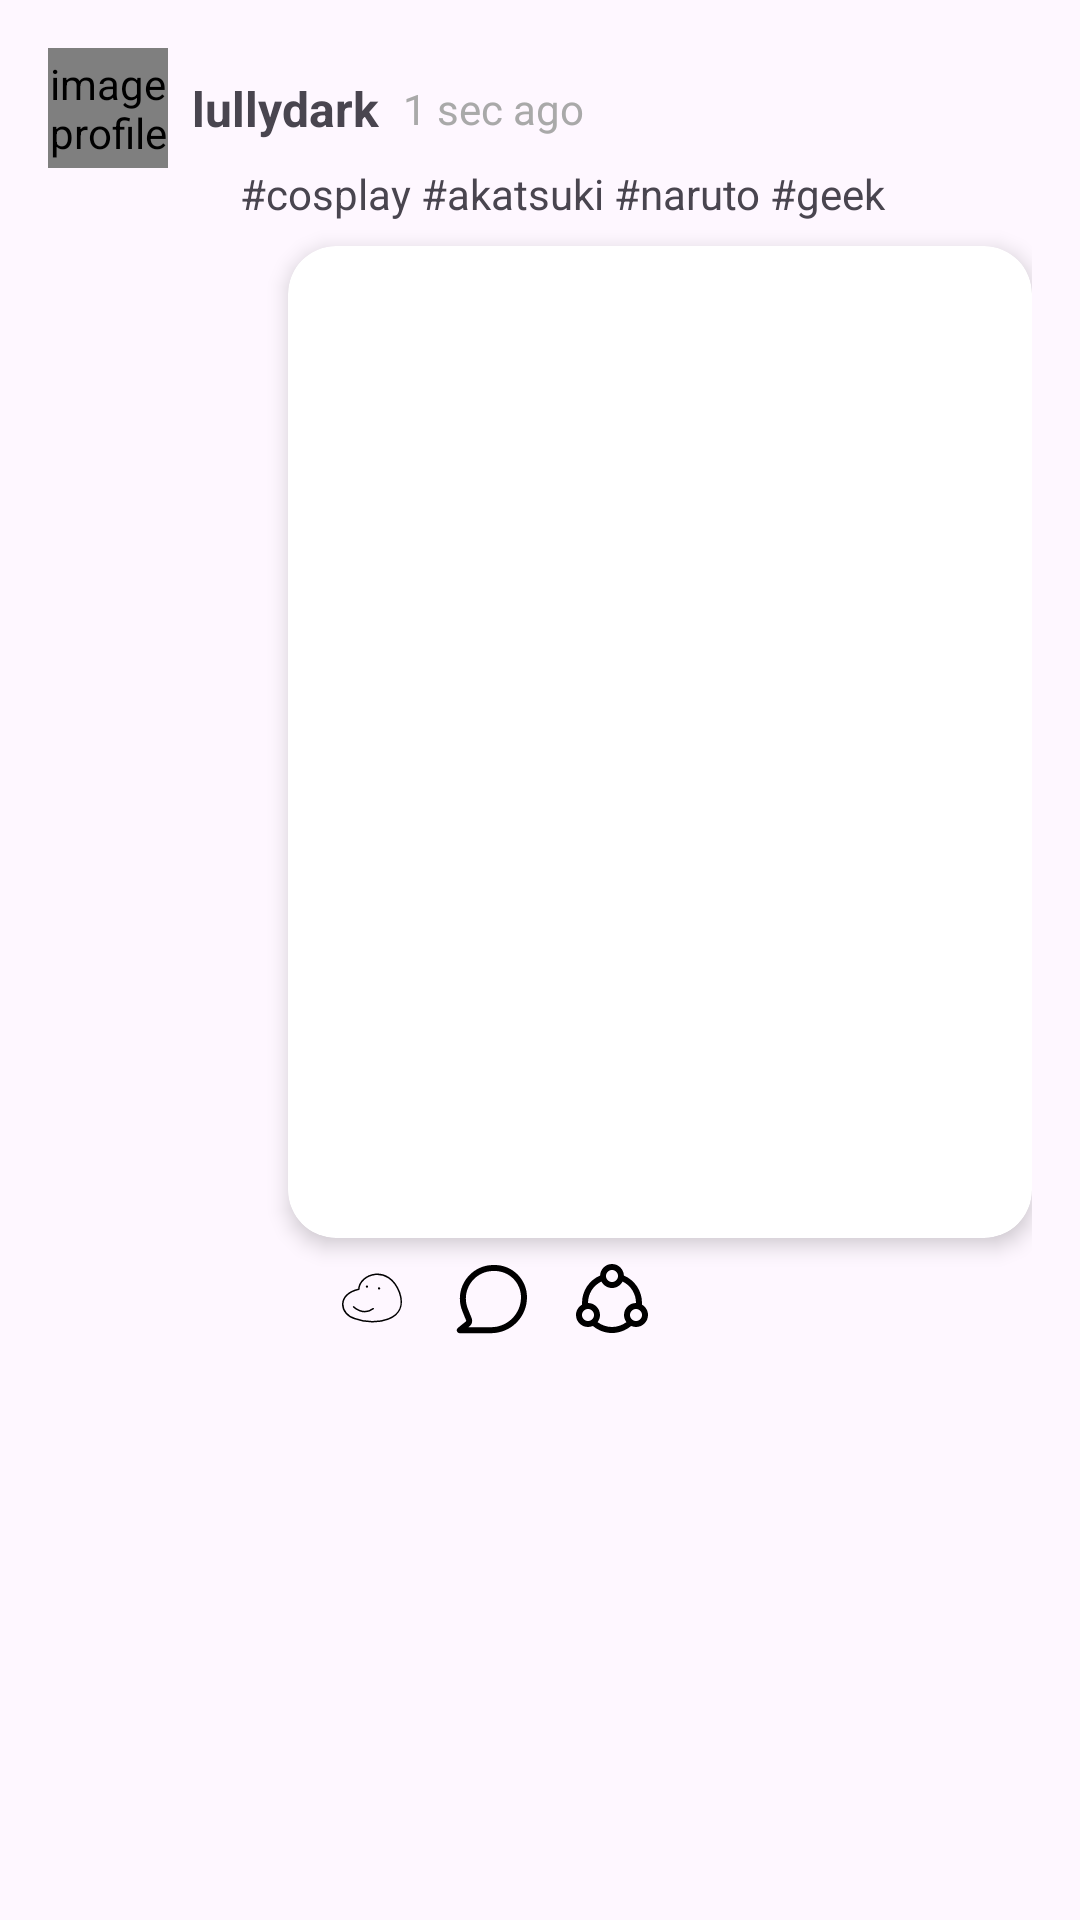

Icon bounding boxes for this 1080w x 1920h phone screenshot, format (x1, y1, x2, y2):
Icon Comment: (456, 1265, 527, 1334)
Icon Share: (576, 1264, 648, 1333)
